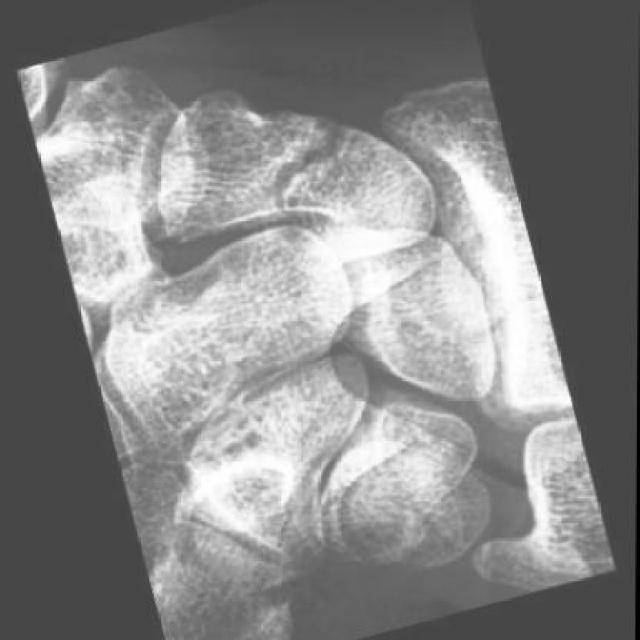Fracture: (242, 97, 369, 230)
